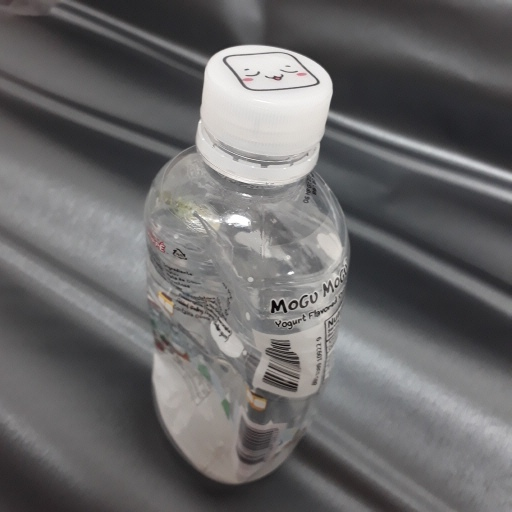Plastic_0: (141, 44, 349, 484)
